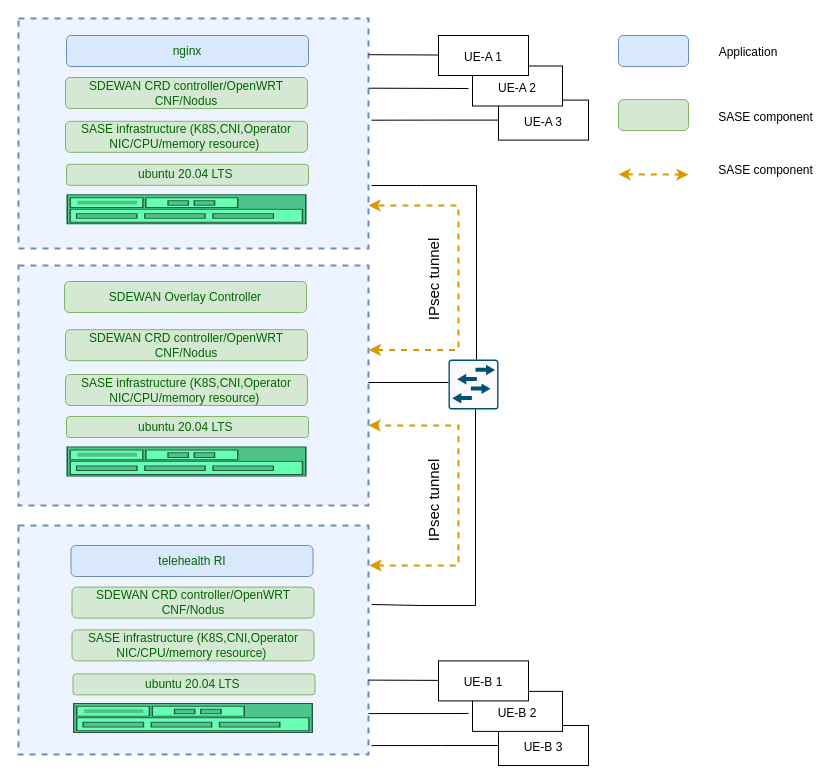
Some shapes in this 833 by 783 pixel diagram are drawn without their labels. Each missing label, with the box of its shape:
SASE Edge cluster A: (17, 17, 369, 249)
SASE Edge cluster B: (17, 524, 369, 755)
SASE POP cluster: (17, 264, 369, 506)
